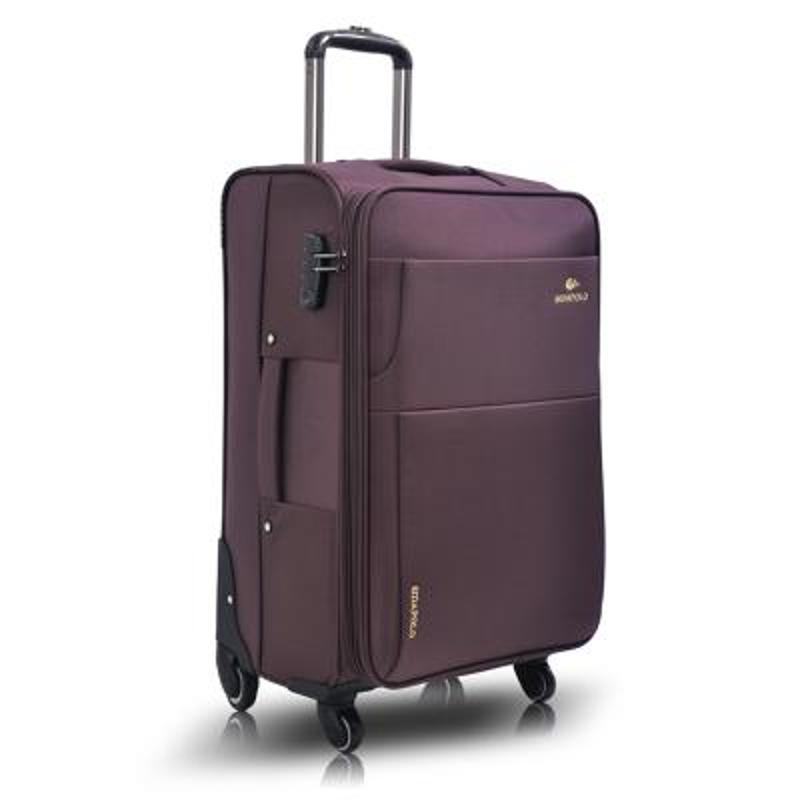luggage: (214, 23, 608, 755)
